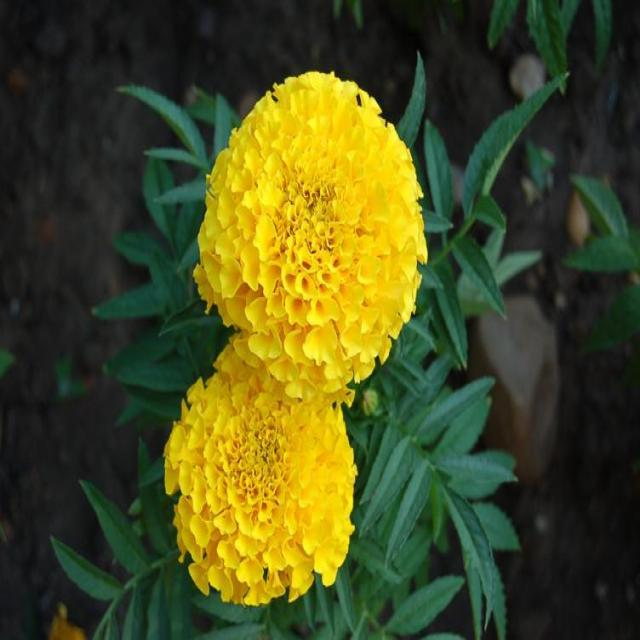marigold: (168, 37, 444, 420), (76, 306, 404, 622)
